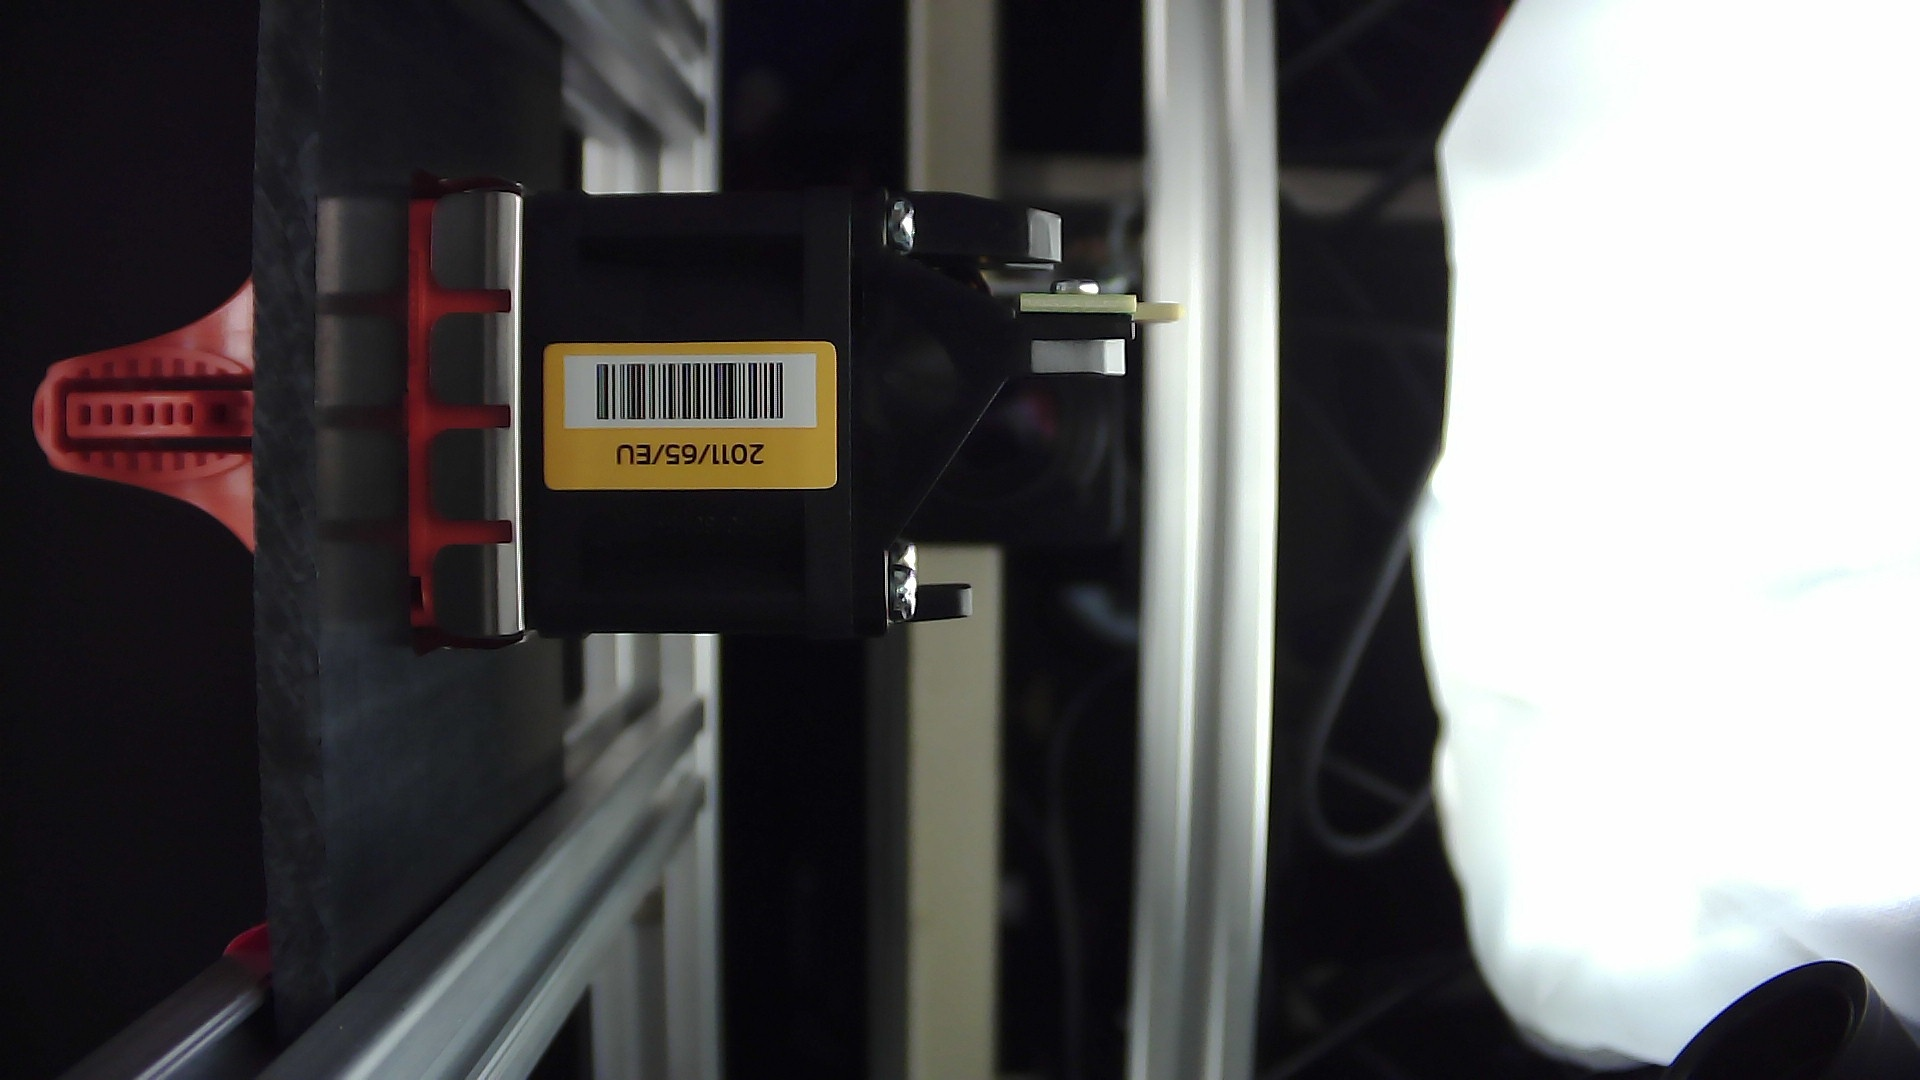6_0: (345, 146, 1244, 682)
